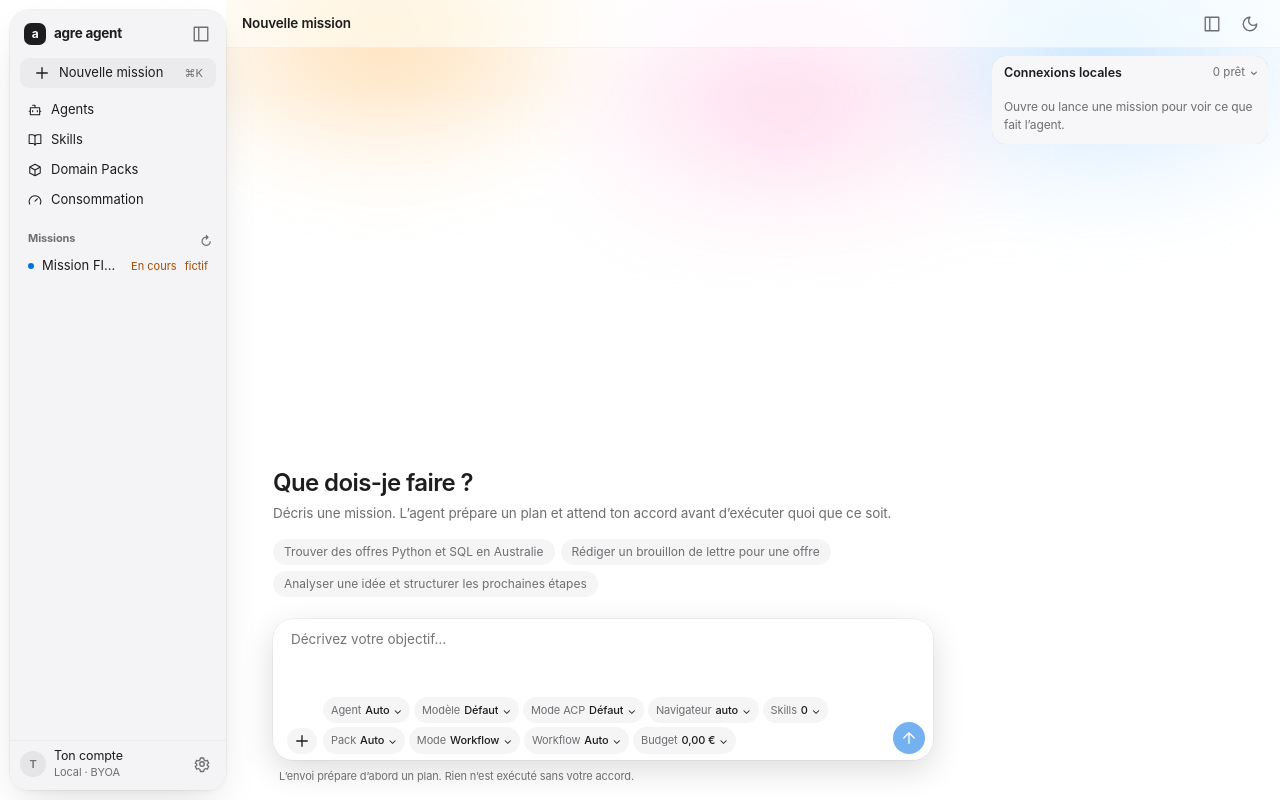
Test: signale une perte du backend pendant une mission puis retente la lecture
This screenshot has width=1280, height=800.
Click the button "Mission FICTIVE en cours En cours fictif" at (118, 266), box [18,252,218,280]
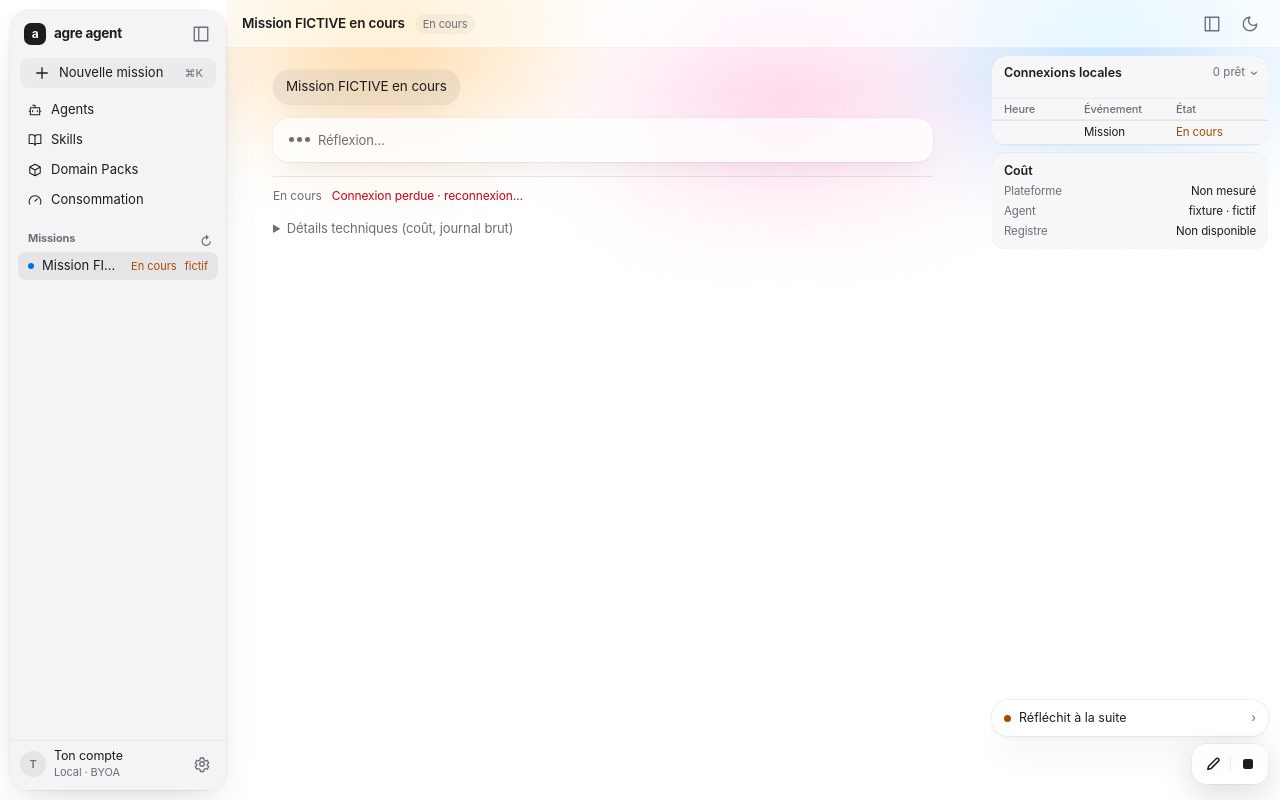
Now the 1st text "Mission FICTIVE en cours" is shown, box [242,14,405,34]
Now the text with class "danger" reads "Connexion perdue · reconnexion…", box [332,188,523,203]
